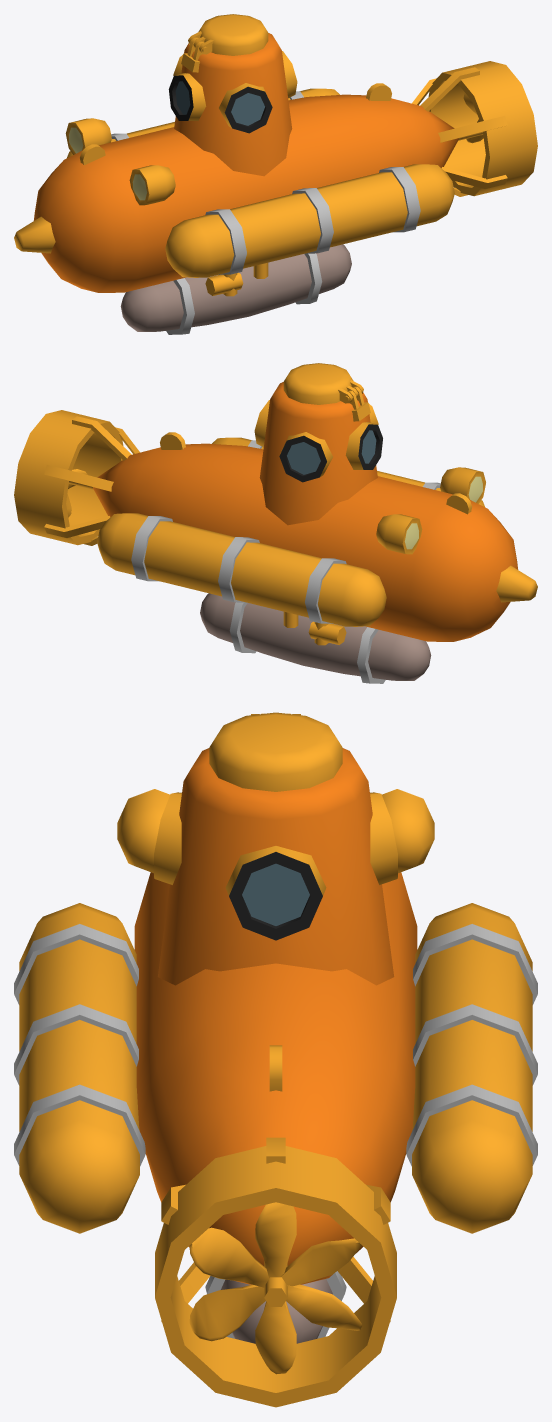
File: Water_Ship_002.glb
3 renders of one model, top to bottom at view 1: azimuth 30°, elevation 25°; view 2: azimuth 150°, elevation 25°; view 3: azimuth 270°, elevation 25°, orthographic. The views are drawn at different scales.
Visible parts, largest first — view 1: Water_Ship_002; view 2: Water_Ship_002; view 3: Water_Ship_002.
Part boxes in pixels (box(x1,y1,x2,y2)): Water_Ship_002: box(14, 14, 537, 334); Water_Ship_002: box(14, 363, 537, 683); Water_Ship_002: box(14, 712, 537, 1407).
Bounding box in the file's own units: 6.99 × 4.04 × 3.43.
1 material, 1 textured.
